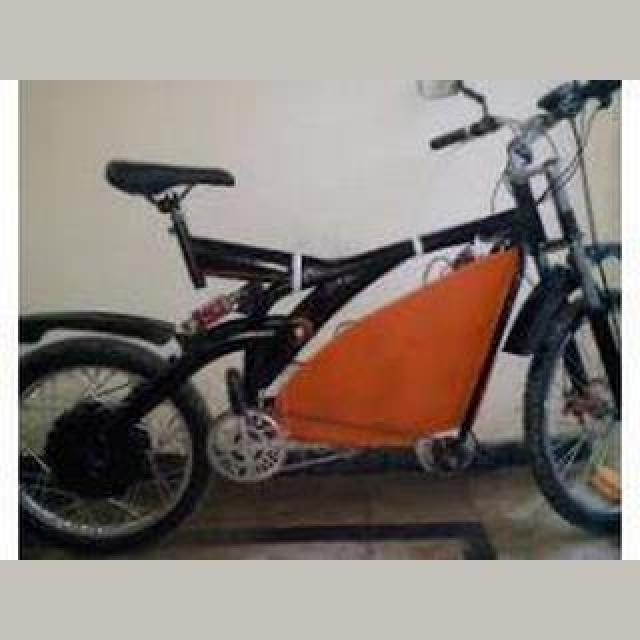Person: (16, 80, 622, 560)
